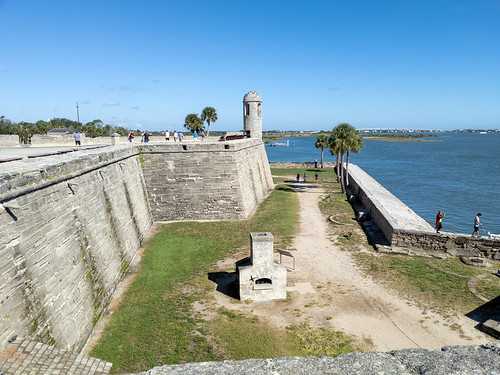building: (1, 90, 278, 375)
sea: (286, 121, 500, 240)
sky: (1, 1, 488, 120)
tree: (320, 121, 362, 192), (179, 104, 220, 136)
